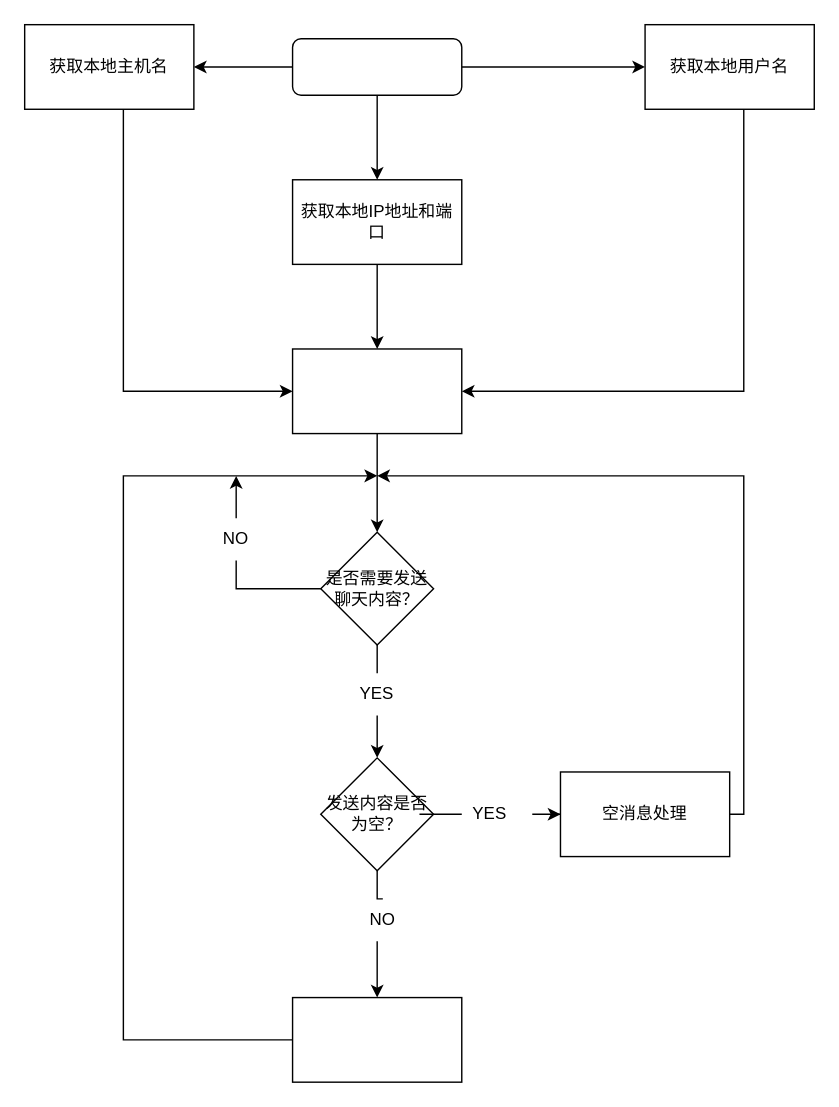
This 839x1107 diagram has some shape labels left out. The box of each missing label's shape, as (x1, y1, x2, y2) in pixels:
加入群聊: (291, 37, 462, 95)
发送本地用户名，主机名，IP地址，聊天内容: (291, 996, 462, 1082)
指定端口，广播上述信息: (291, 348, 462, 434)
